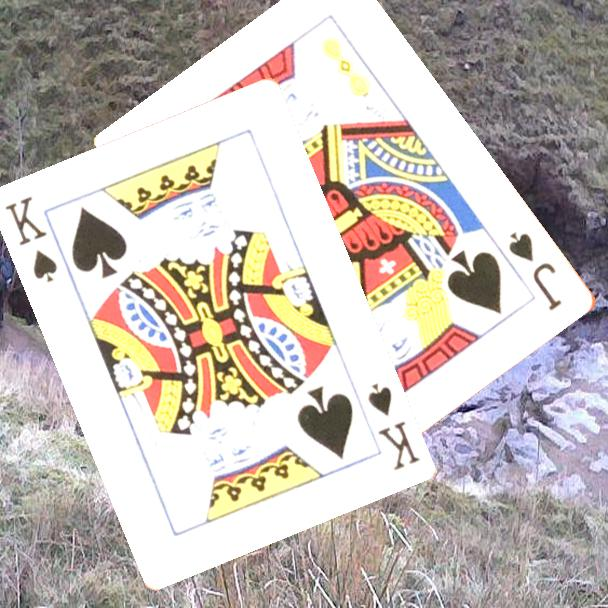s11: (505, 229, 566, 314)
s13: (363, 379, 423, 473), (1, 192, 60, 285)
